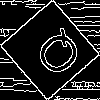Q: (25, 24, 87, 87)
